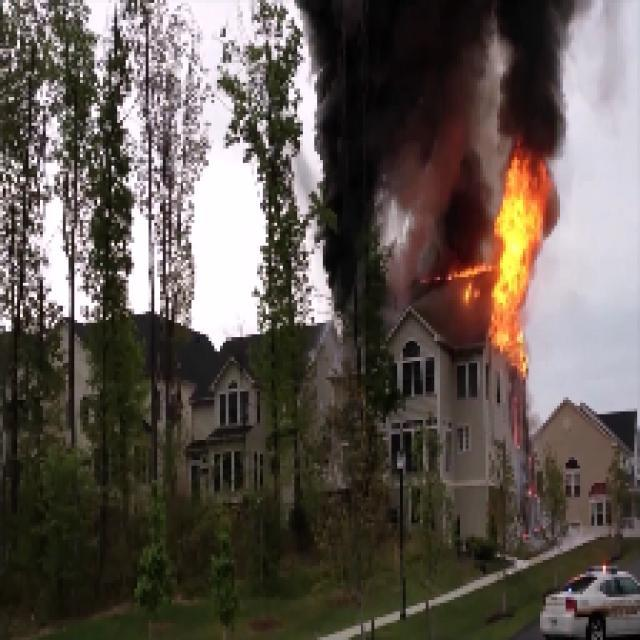Fire: (490, 162, 541, 348)
Smoke: (315, 11, 488, 284), (500, 0, 570, 147)
